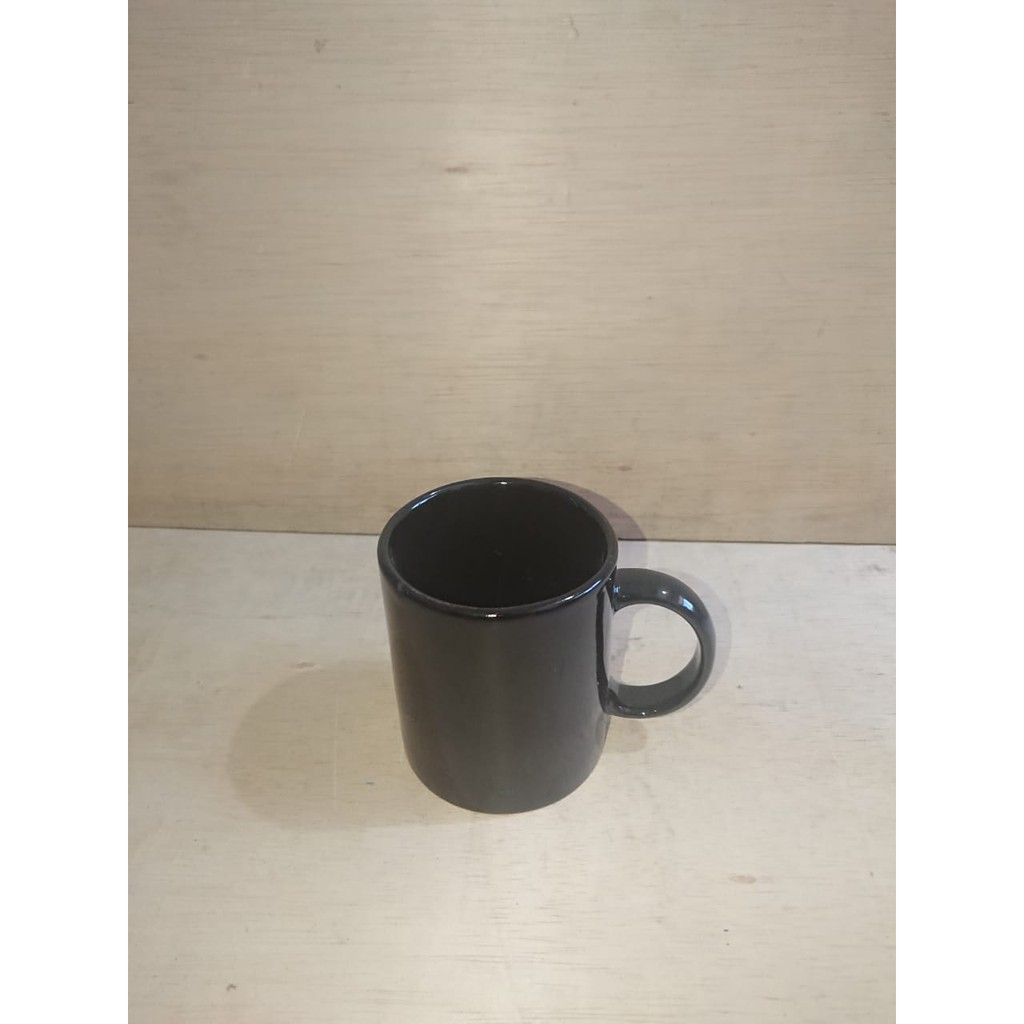gelas: (346, 438, 748, 874)
